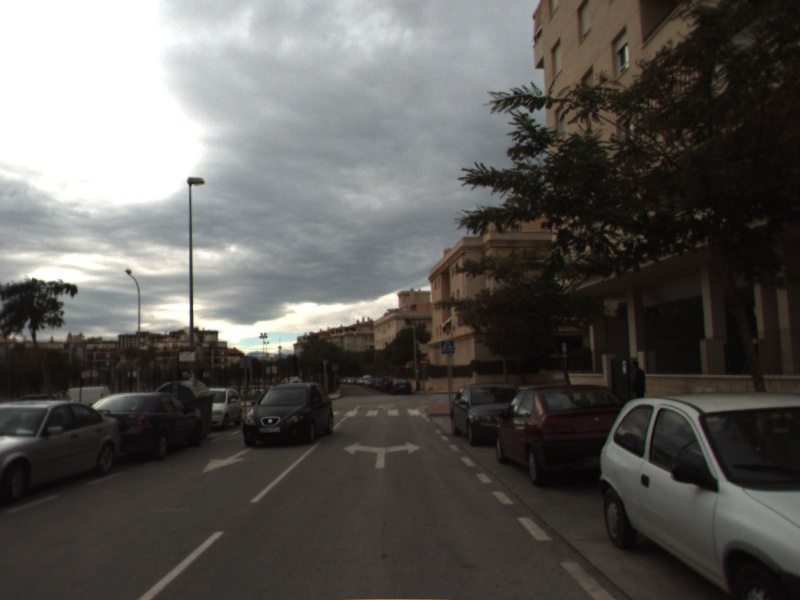LEFT_RIGHT: (341, 439, 422, 470)
